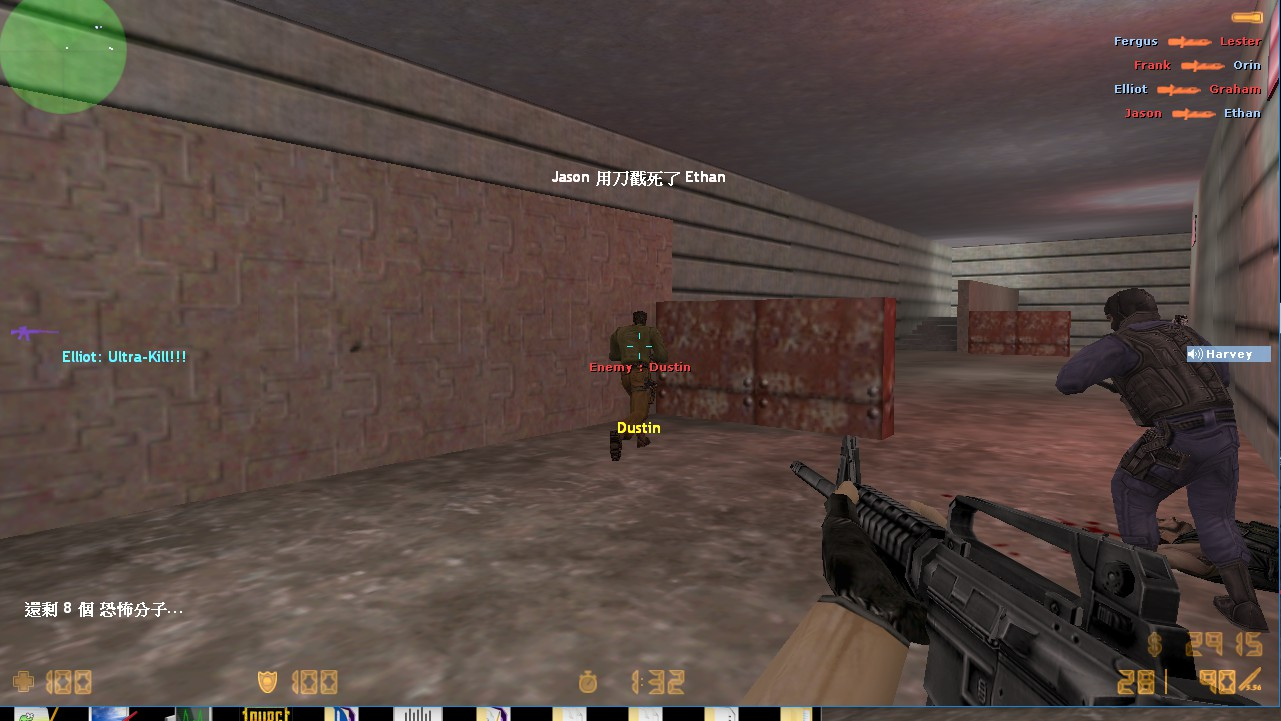person: (1075, 286, 1252, 621), (608, 307, 676, 466)
